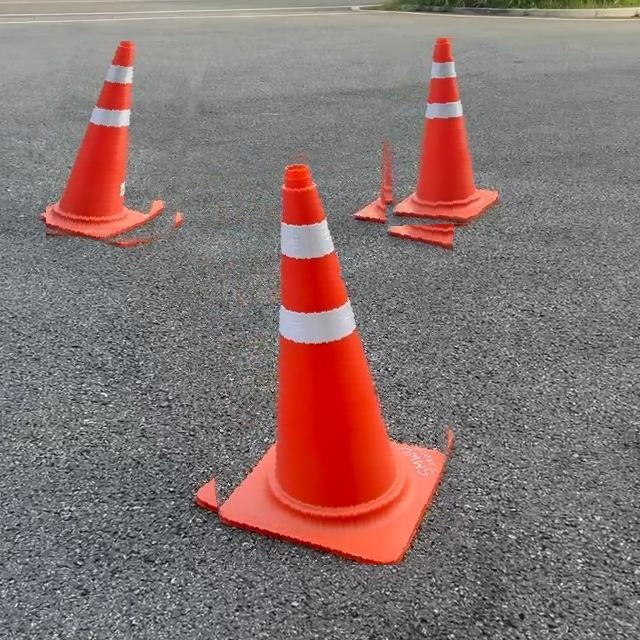fallen_object: (222, 125, 458, 589), (37, 36, 202, 299), (399, 33, 545, 303)
